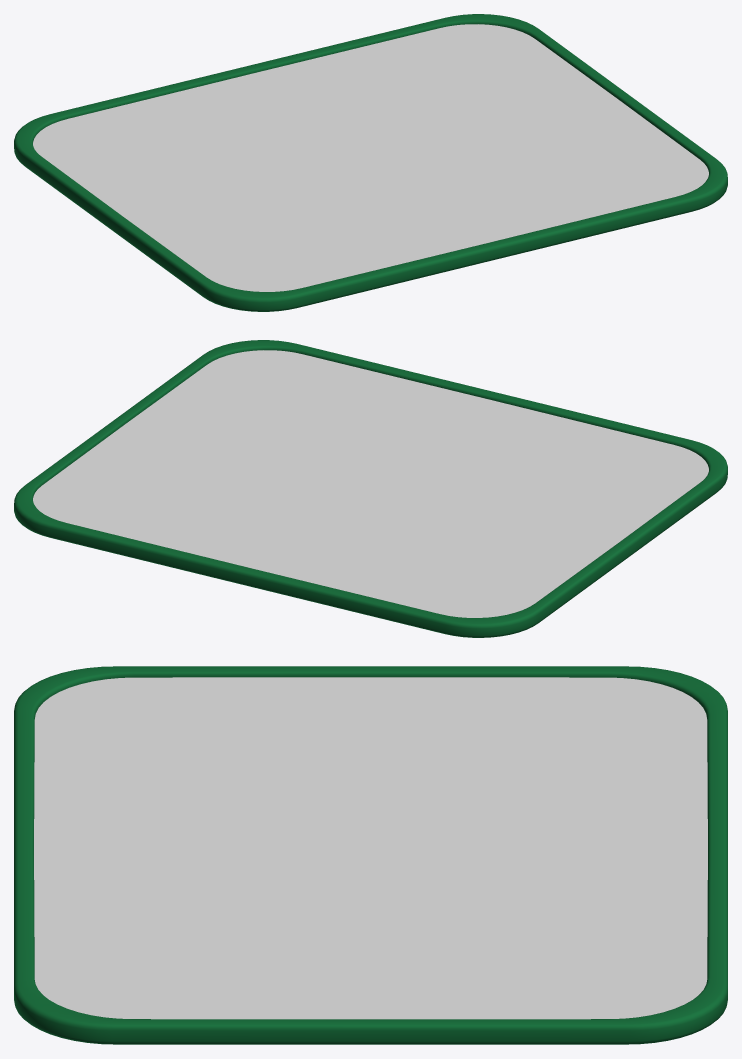
Rendered from Panel.fbx.
The picture shows the model from 3 angles, top to bottom: view 1: azimuth 30°, elevation 25°; view 2: azimuth 150°, elevation 25°; view 3: azimuth 270°, elevation 25°; orthographic projection. The views are drawn at different scales.
Parts seen in each view (by area): view 1: Panel; view 2: Panel; view 3: Panel.
Part boxes in pixels (x1,y1,x2,y2): Panel: (14, 14, 727, 311); Panel: (14, 340, 727, 637); Panel: (14, 666, 727, 1044).
Size of the model in its own units: 239 by 6.18 by 200.
